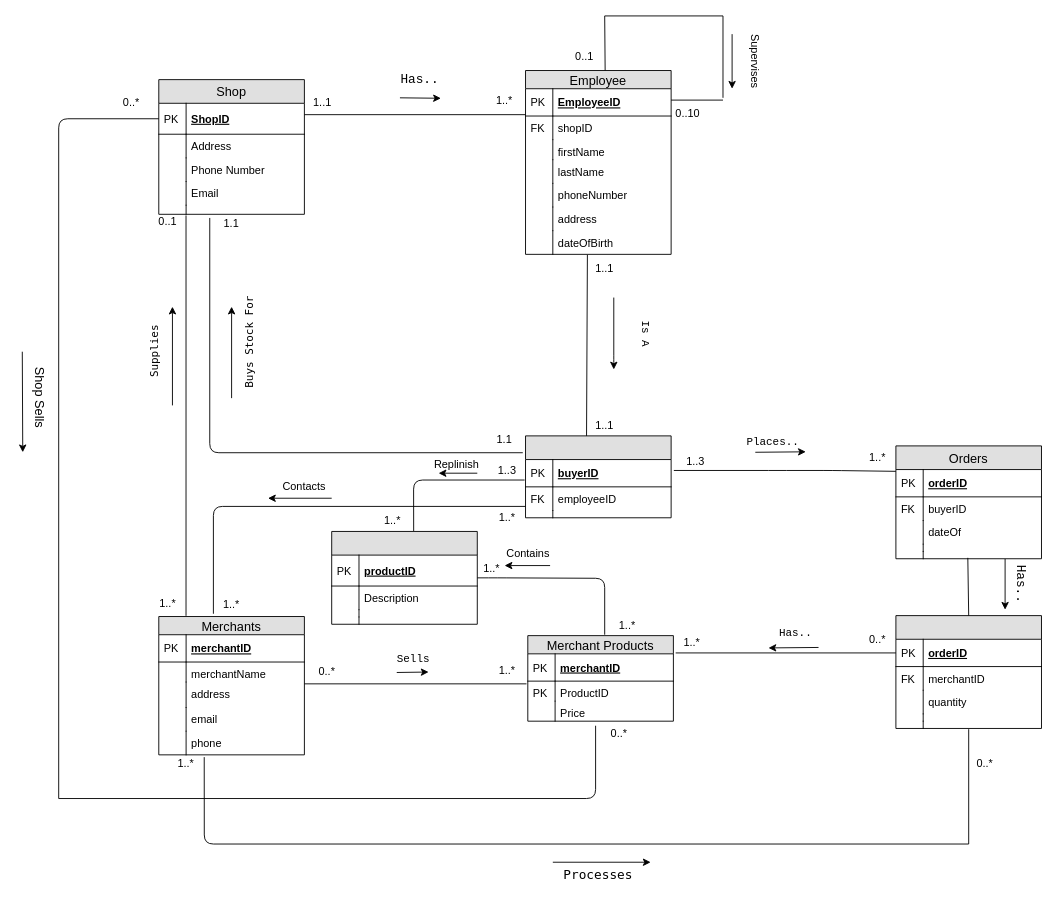
Some shapes in this 1058 by 899 pixel diagram are drawn without their labels. Each missing label, with the box of its shape:
Buyers: (525, 435, 671, 518)
orderDetail: (895, 615, 1041, 728)
Products: (331, 531, 477, 624)
